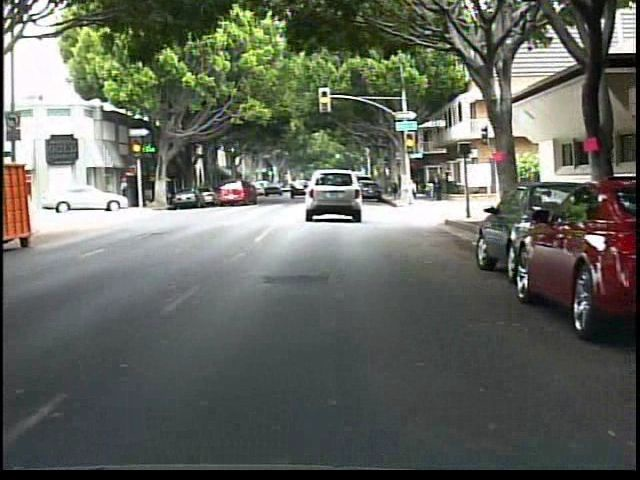person: (434, 168, 447, 204), (426, 172, 439, 202), (443, 166, 455, 196)
